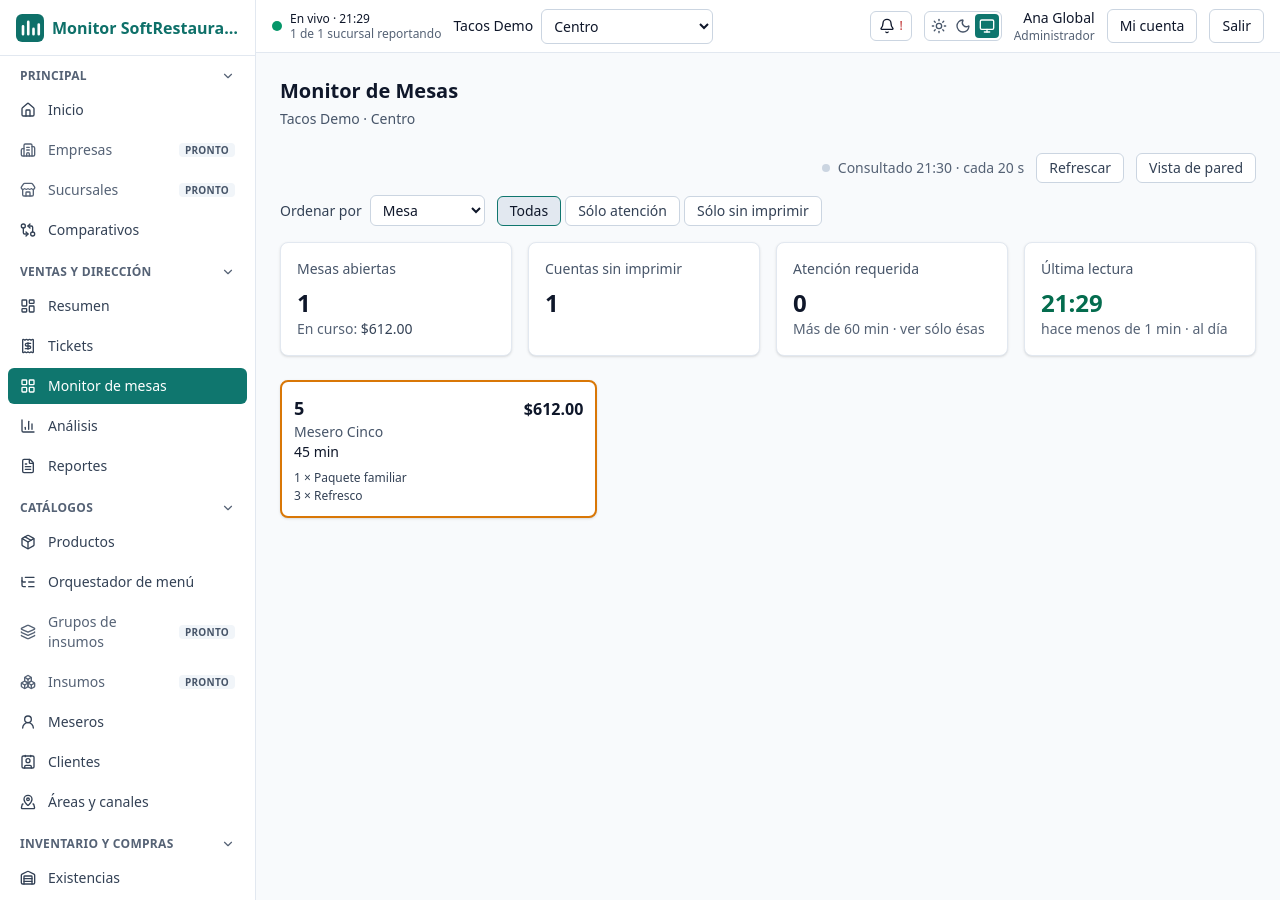
Test: Detalle de consumo (modal, F1-051) › modificadores anidados: cada uno dentro de su padre, y los de $0.00 se ven
Expected: the text with test id "kpi-mesas" is shown, [297,286,311,319]
What coordinates should you click on to do the following:
click the button named "Ver consumo de Mesa 5"
I would click on:
 (439, 449)
Its box is [282,382,595,516].
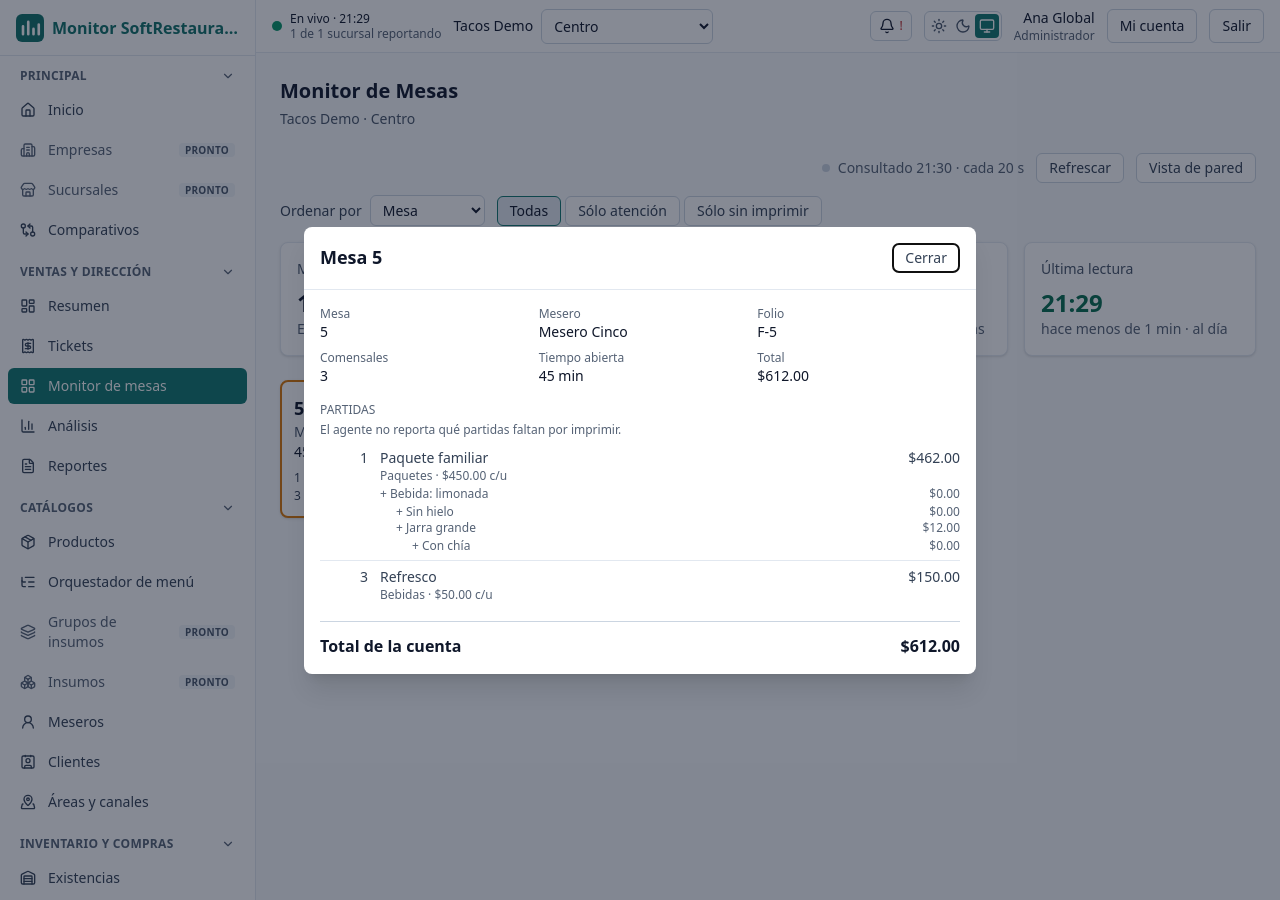
Result: the list item with aria-label "1 × Paquete familiar, $462.00" shows "Paquetes · $450.00 c/u" at [320,442,960,560]
Result: the list item with aria-label "1 × Paquete familiar, $462.00" shows "$462.00" at [908,448,960,466]
Result: the list item with aria-label "Sin hielo, $0.00" reads "+ Sin hielo $0.00" at [396,504,960,520]
